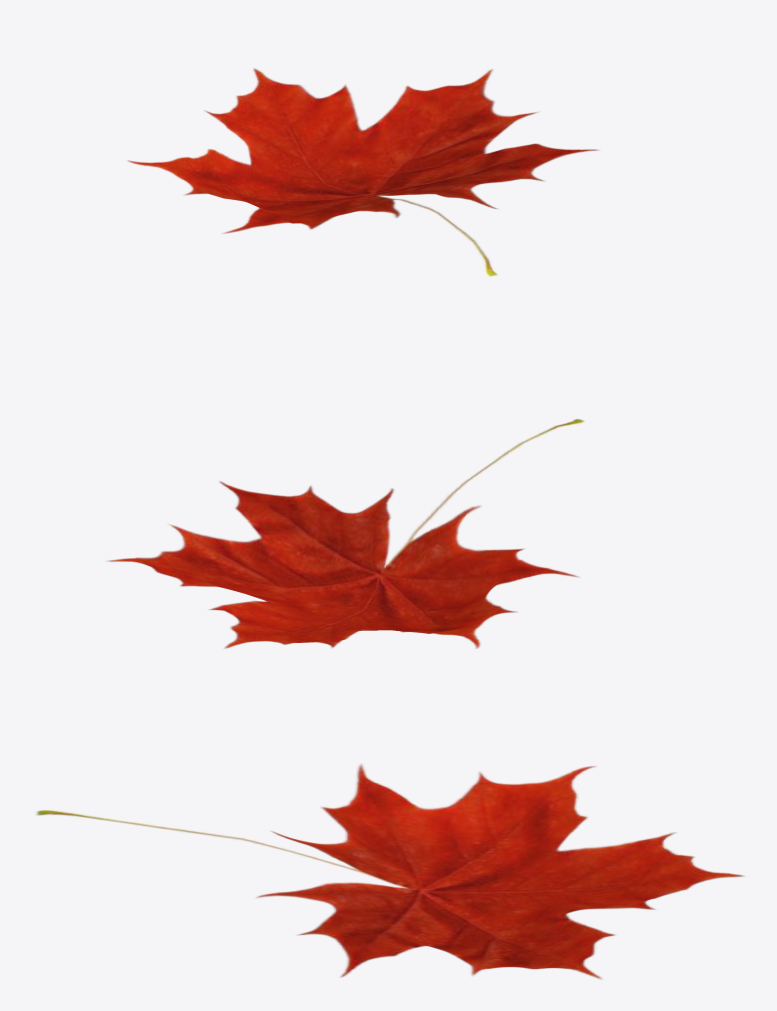
The model's file is fall.gltf.
3 renders of one model, top to bottom at view 1: azimuth 30°, elevation 25°; view 2: azimuth 150°, elevation 25°; view 3: azimuth 270°, elevation 25°, orthographic. The views are drawn at different scales.
Visible parts, largest first — view 1: 89944a56d7ea66040f444e354e9989ff-removebg-preview; view 2: 89944a56d7ea66040f444e354e9989ff-removebg-preview; view 3: 89944a56d7ea66040f444e354e9989ff-removebg-preview.
Boxes of the visible parts, bbox=[...] form: 89944a56d7ea66040f444e354e9989ff-removebg-preview: bbox=[127, 68, 599, 276]; 89944a56d7ea66040f444e354e9989ff-removebg-preview: bbox=[106, 419, 584, 648]; 89944a56d7ea66040f444e354e9989ff-removebg-preview: bbox=[36, 764, 745, 979].
Bounding box in the file's own units: 2.06 × 0.255 × 2.52.
Materials: 1 (1 with a texture image).
